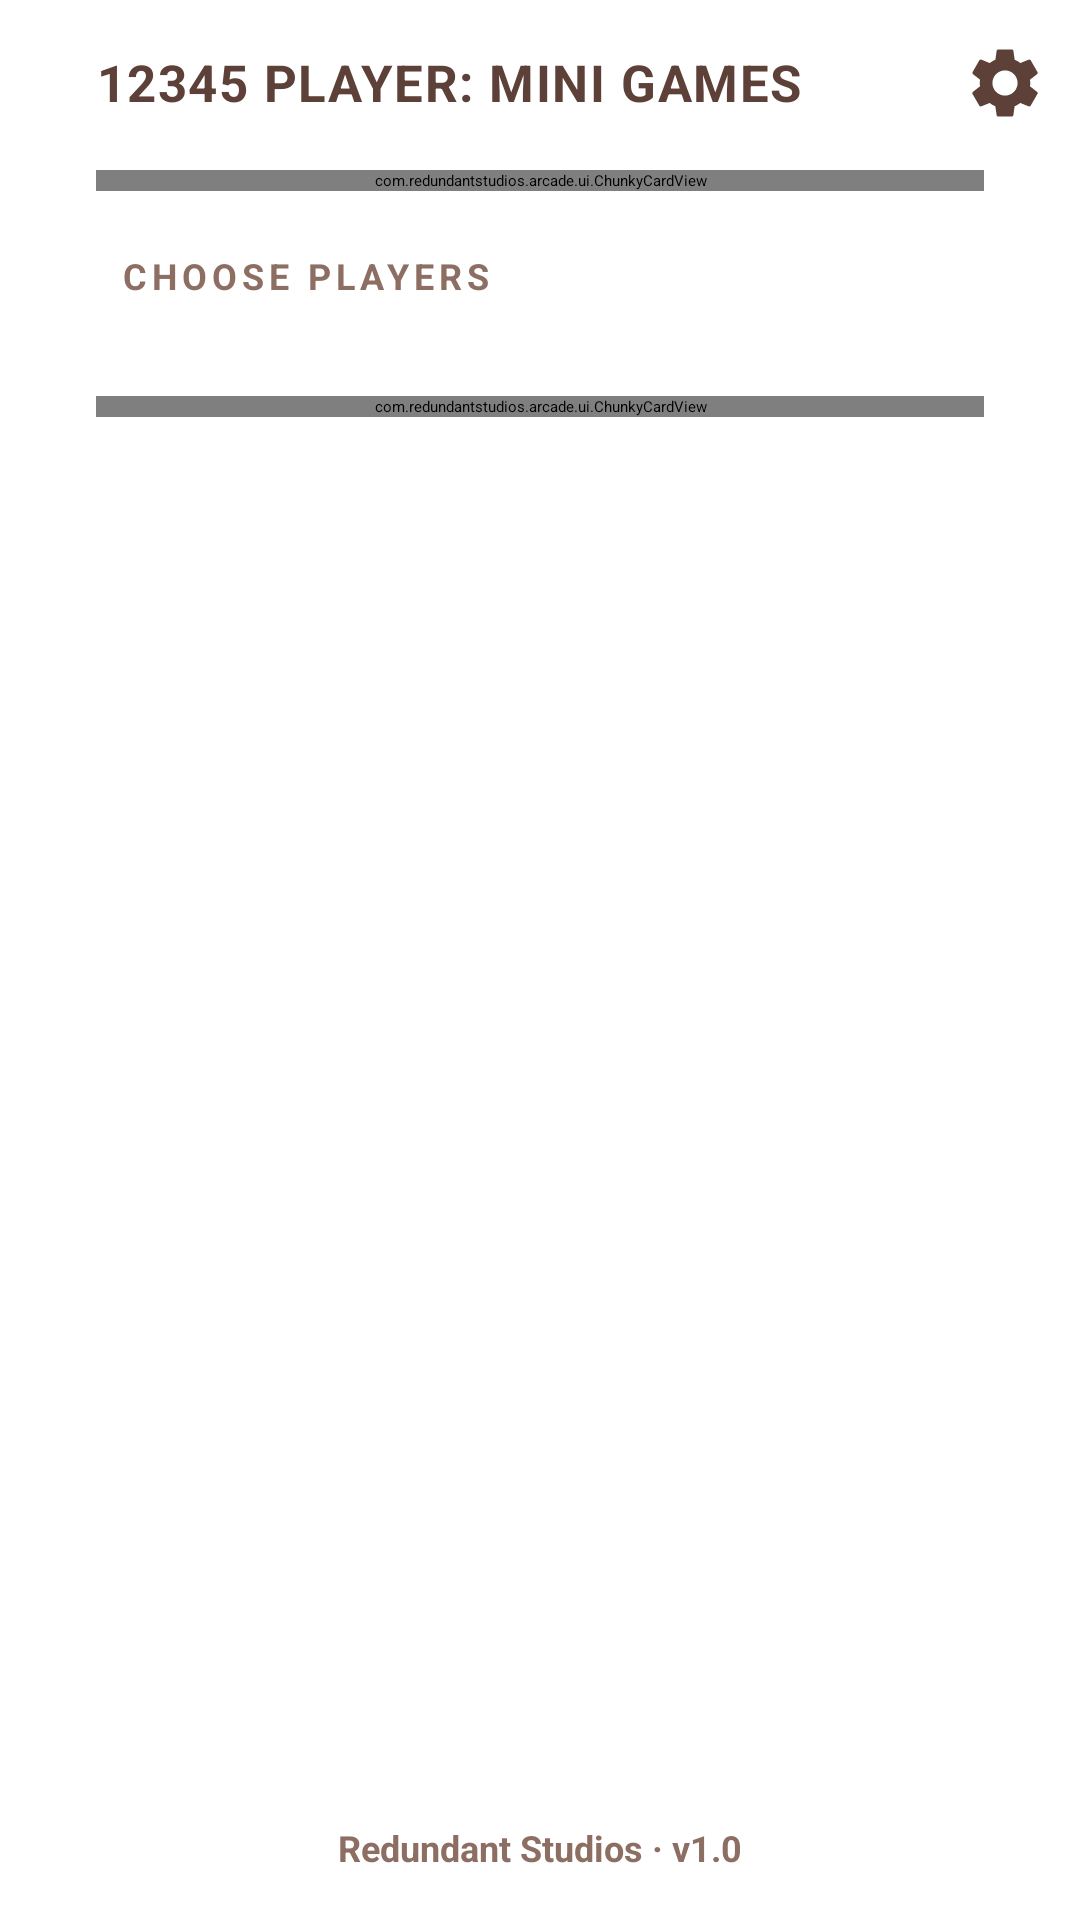

Screen size 1080w x 1920h. Icon name, then its center in pixels as (x,y):
Settings: (1005,83)
